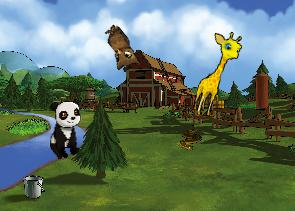giraffe: (190, 27, 245, 122)
owl: (93, 22, 144, 76)
panda: (49, 99, 82, 159)
